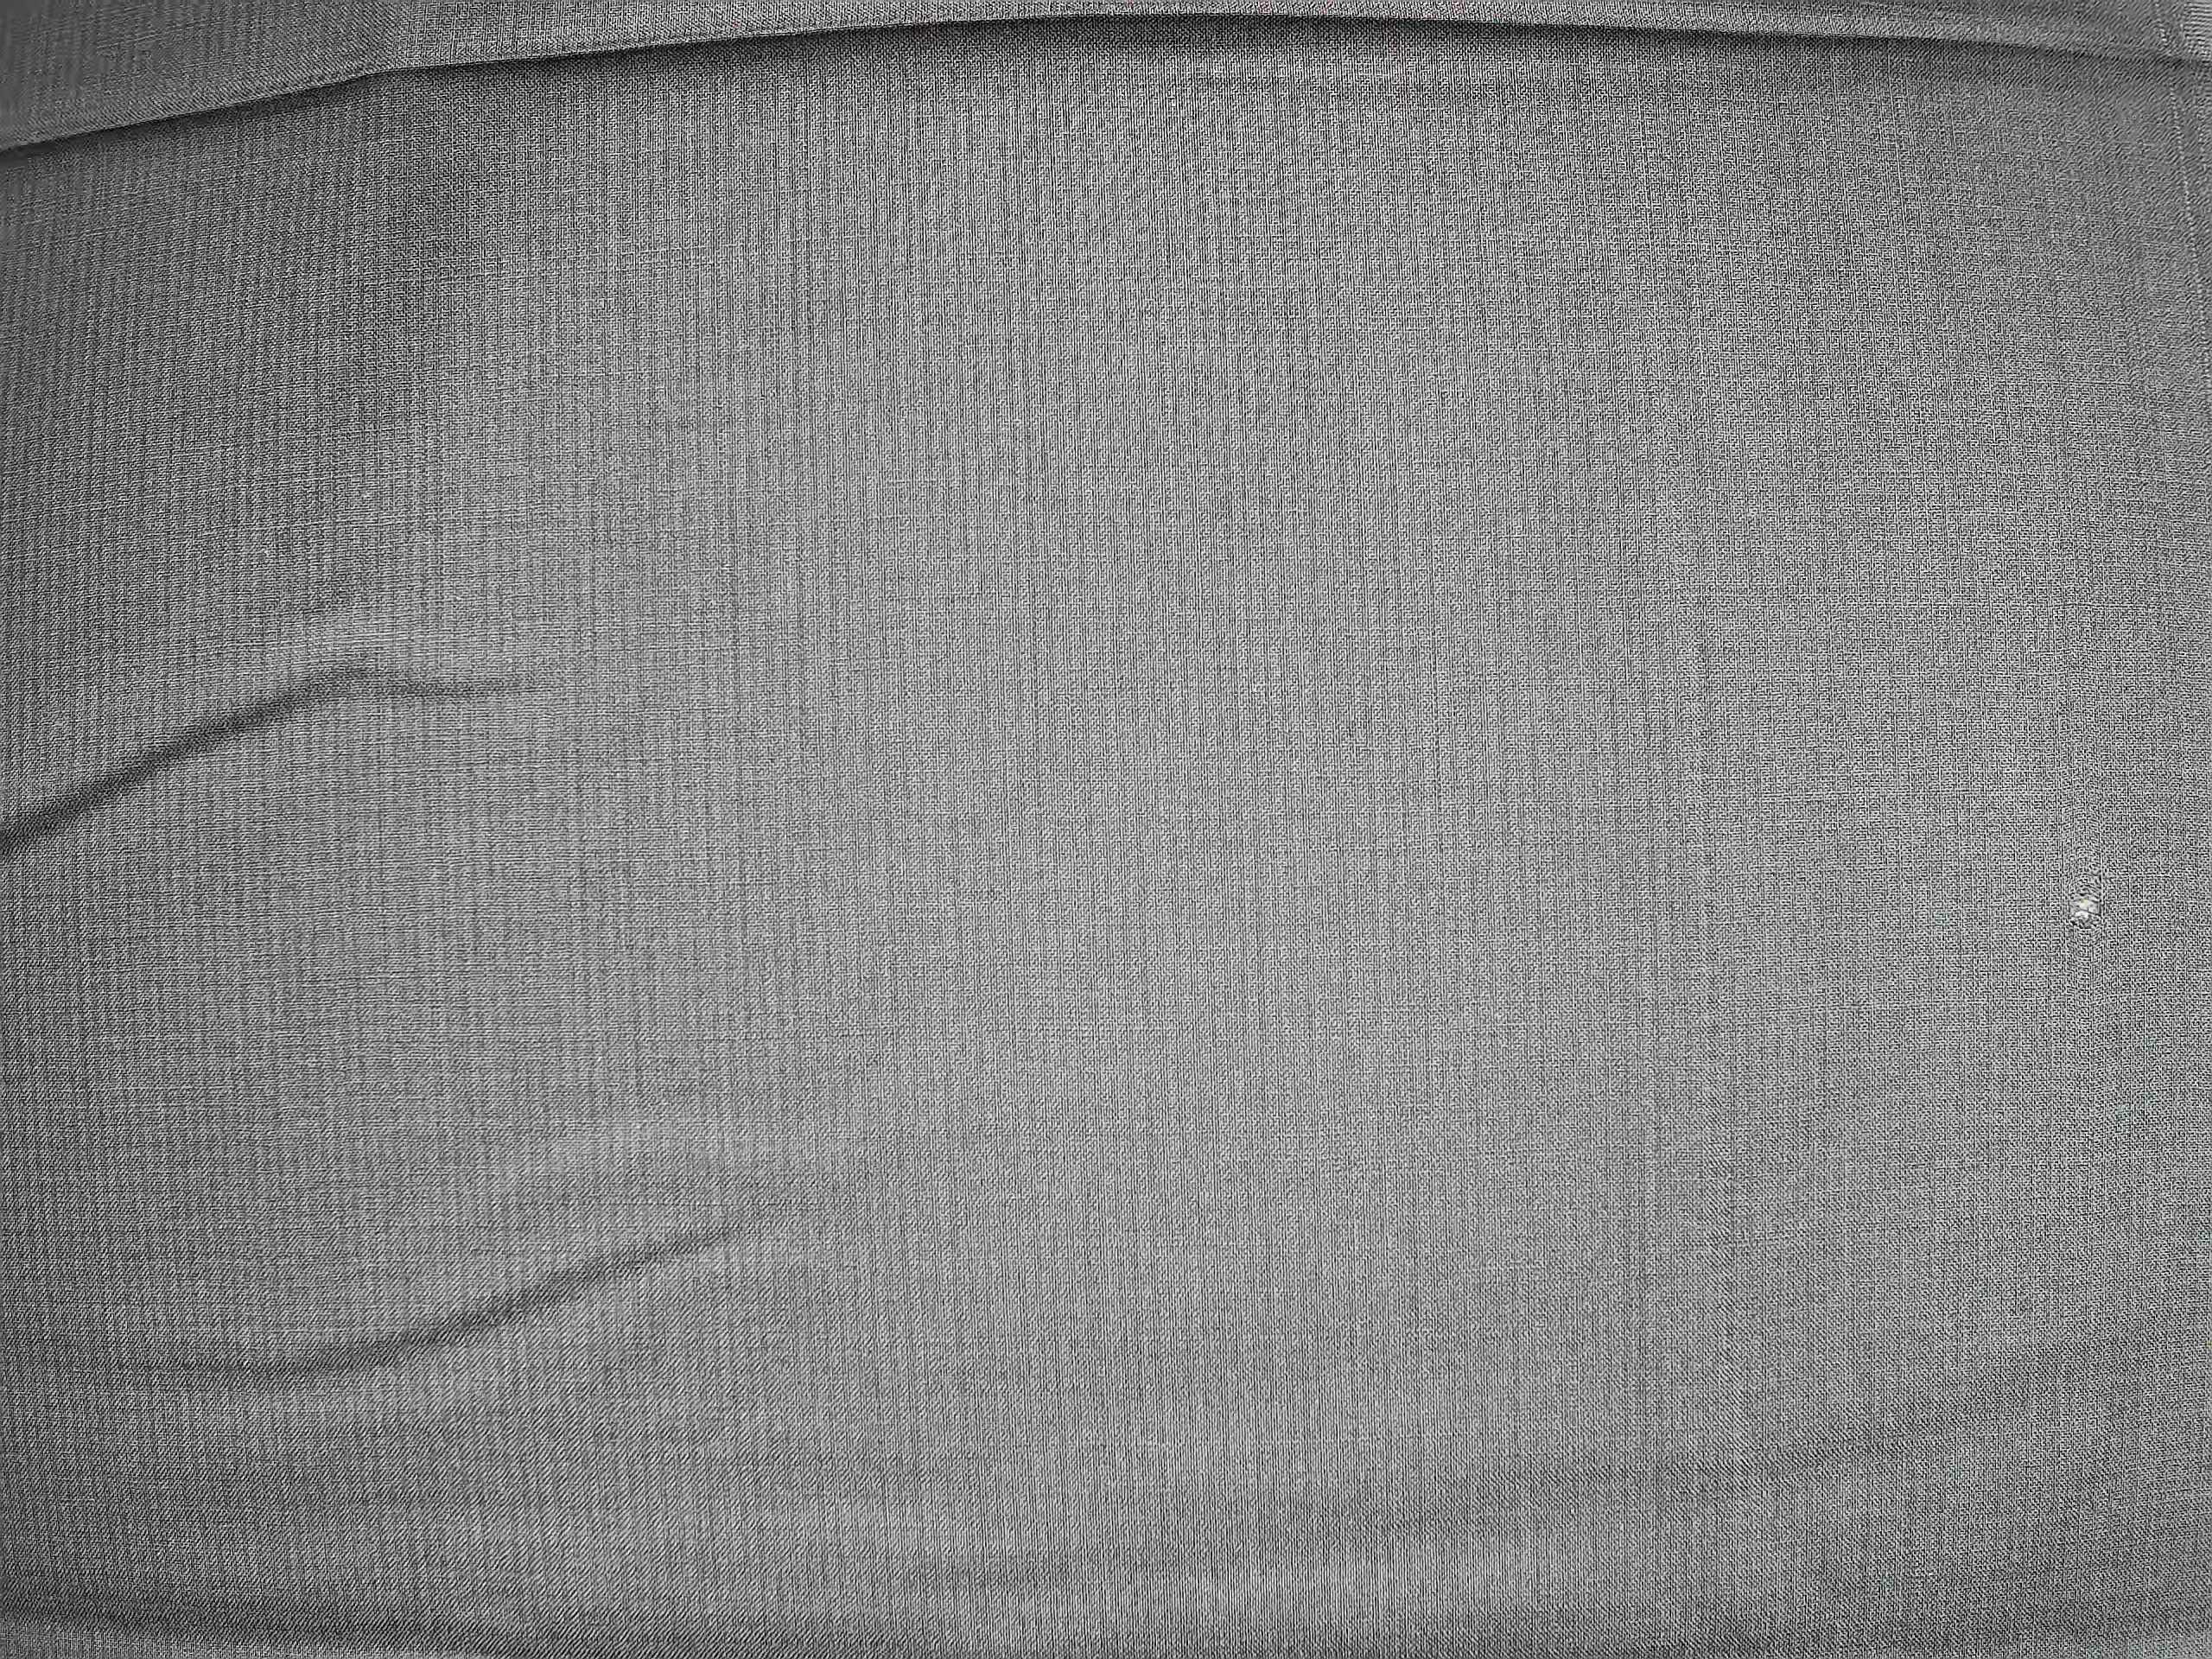rubbing-hole: (2054, 873, 2120, 941)
